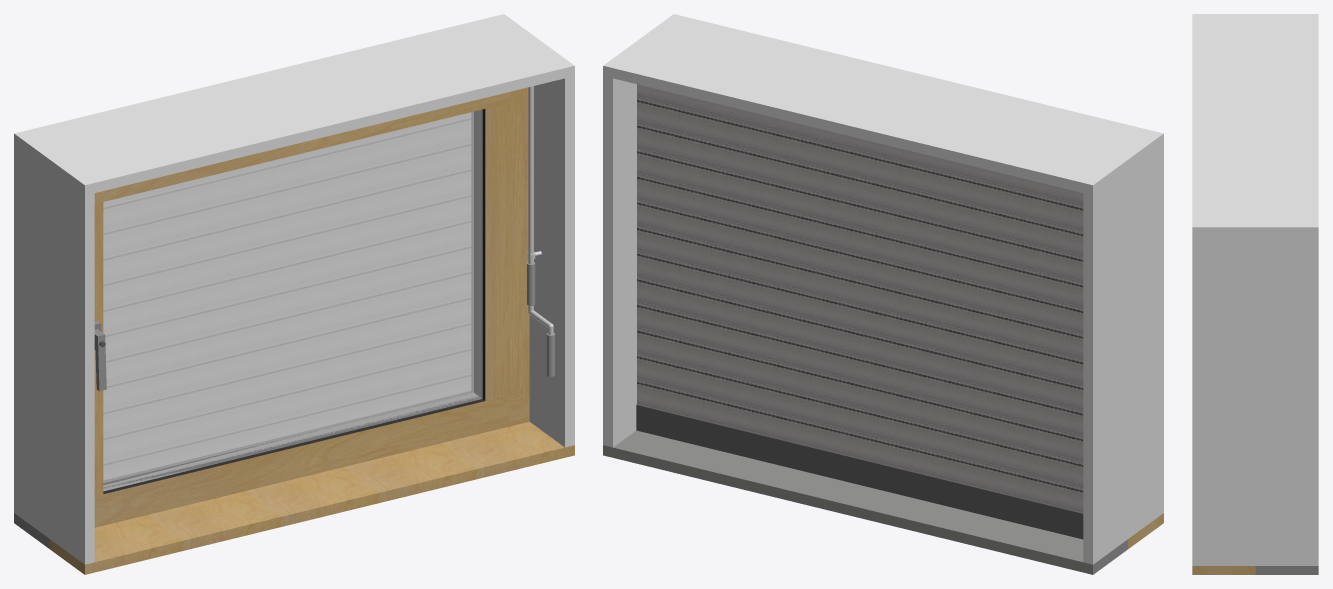
File: smallWindow2.obj
The picture shows the model from 3 angles, left to right: view 1: azimuth 30°, elevation 25°; view 2: azimuth 150°, elevation 25°; view 3: azimuth 270°, elevation 25°; orthographic projection. The views are drawn at different scales.
Visible parts, largest first — view 1: sweethome3d_opening_on_hinge_1_Window_Pane_wall_1_1_1_28_174, sweethome3d_opening_on_rail_1_Roller_Shutter_Foot_back_119_200, 46, 58, sweethome3d_opening_on_hinge_1_Inside_Inner_Frame_top_77_125, 70, sweethome3d_opening_on_hinge_1_Outside_Inner_Frame_top_59_143, 6, sweethome3d_opening_on_hinge_2_Roller_Shutter_Crank_Cylinde.000, sweethome3d_opening_on_hinge_1_Window_Handle_back_86_116; view 2: sweethome3d_opening_on_rail_1_Roller_Shutter_Foot_back_119_200, 58, 46, 76; view 3: 58, 46, 70, 76.
Part boxes in pixels (x1,y1,x2,y2): sweethome3d_opening_on_hinge_1_Window_Pane_wall_1_1_1_28_174: [103, 109, 482, 491]; sweethome3d_opening_on_rail_1_Roller_Shutter_Foot_back_119_200: [103, 112, 470, 479]; 46: [49, 40, 574, 564]; 58: [14, 14, 538, 538]; sweethome3d_opening_on_hinge_1_Inside_Inner_Frame_top_77_125: [94, 92, 509, 521]; 70: [49, 421, 574, 574]; sweethome3d_opening_on_hinge_1_Outside_Inner_Frame_top_59_143: [103, 109, 485, 493]; 6: [94, 87, 529, 527]; sweethome3d_opening_on_hinge_2_Roller_Shutter_Crank_Cylinde.000: [527, 86, 555, 376]; sweethome3d_opening_on_hinge_1_Window_Handle_back_86_116: [94, 321, 106, 391]; sweethome3d_opening_on_rail_1_Roller_Shutter_Foot_back_119_200: [636, 84, 1083, 539]; 58: [603, 40, 1128, 564]; 46: [639, 14, 1163, 538]; 76: [603, 430, 1128, 574]; 58: [1255, 14, 1318, 565]; 46: [1192, 14, 1255, 565]; 70: [1192, 566, 1255, 574]; 76: [1255, 566, 1318, 574].
Size of the model in its own units: 100 by 76 by 25.
Materials: 18 (4 with a texture image).
